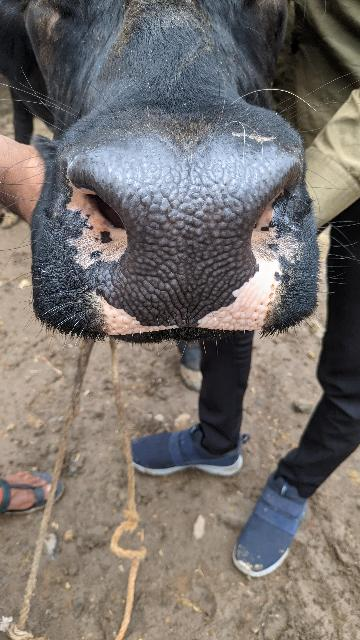Muzzle: (70, 142, 292, 338)
